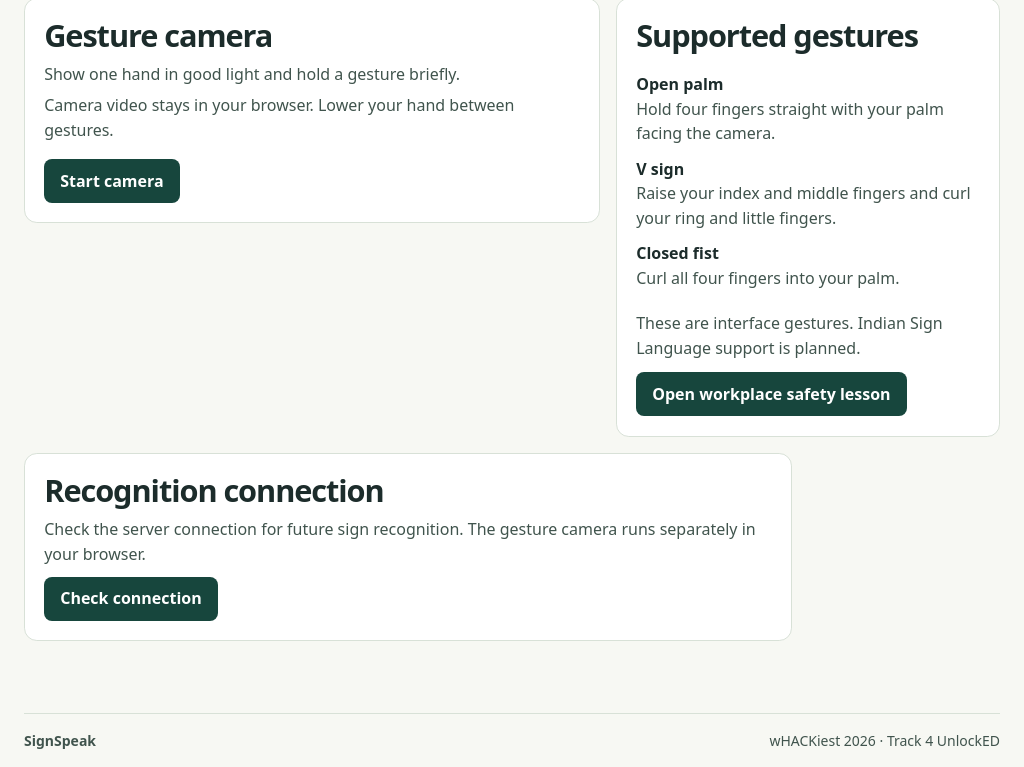
it: checks WebSocket handshake and matching heartbeat without a sign prediction
This screenshot has width=1024, height=767.
(page scrolled)
Click the button "Check connection".
click(131, 599)  # box [44, 577, 218, 621]
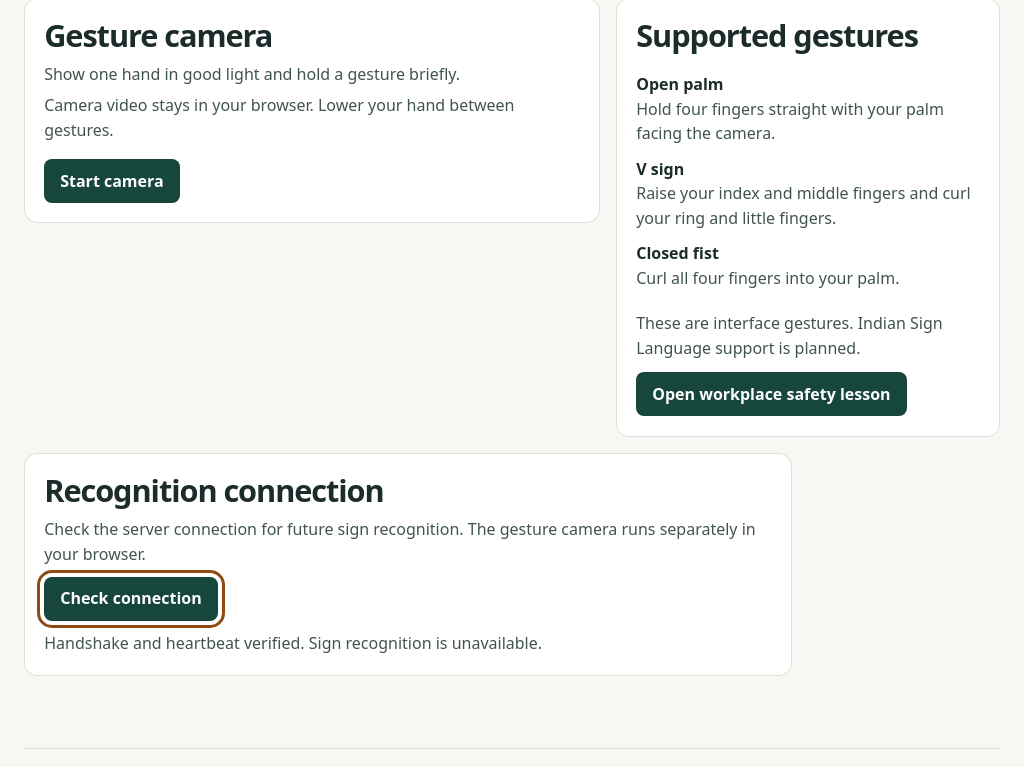
Now the text "Handshake and heartbeat verified. Sign recognition is unavailable." is shown, box [44, 632, 542, 654]
